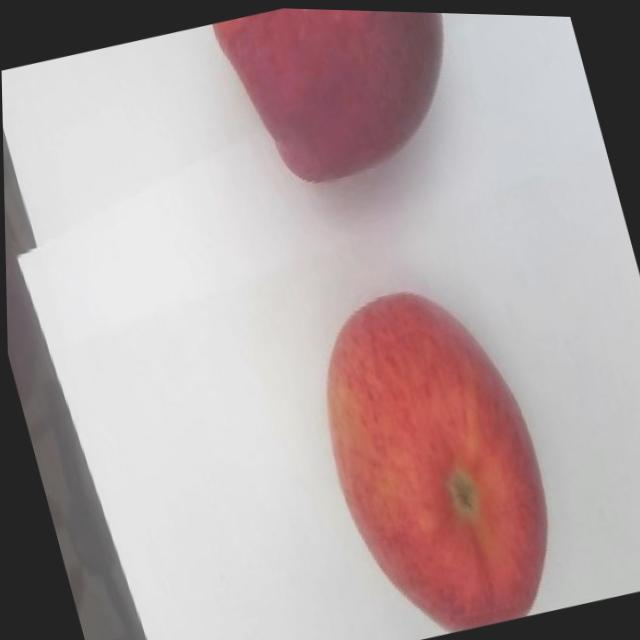Apple: (290, 265, 575, 640), (211, 5, 479, 202)
